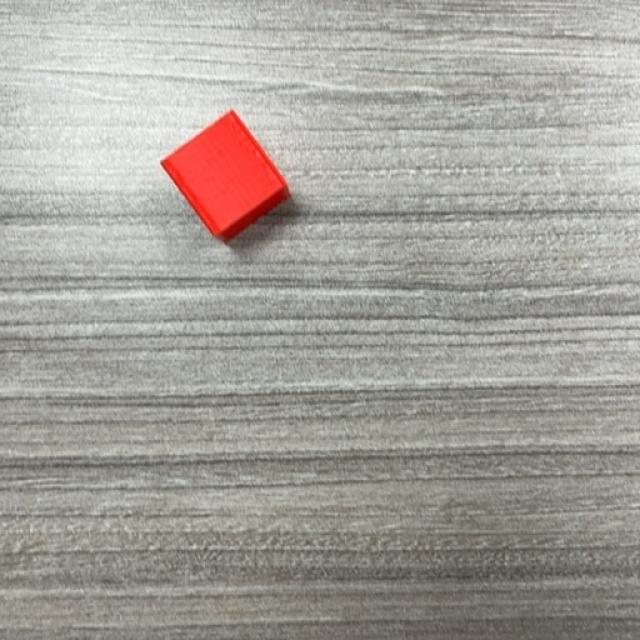Rojo: (160, 110, 292, 244)
